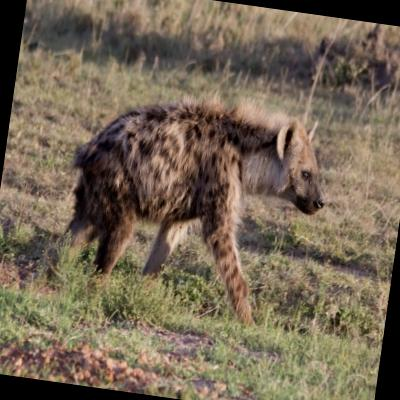hyenas: (6, 64, 350, 336)
